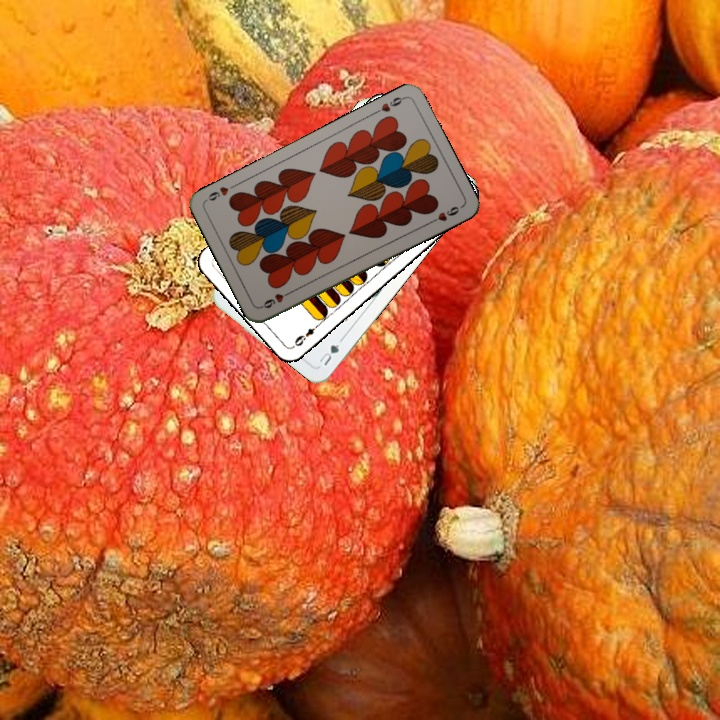E9: (290, 319, 323, 349)
GU: (314, 340, 342, 368)
H9: (257, 286, 295, 311), (377, 93, 408, 115)
